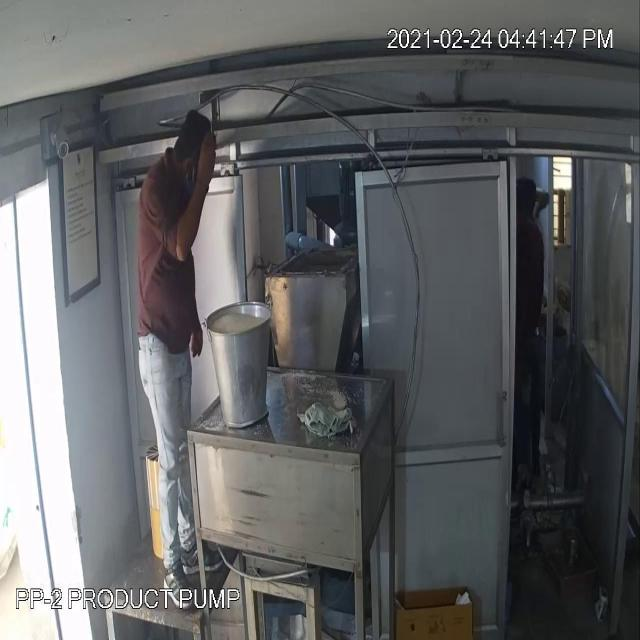no-helmet: (169, 103, 219, 168)
